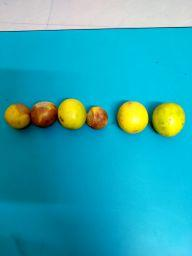lemon: (151, 102, 186, 138), (116, 100, 149, 135), (57, 98, 87, 130), (30, 100, 59, 130), (3, 103, 32, 130), (87, 104, 108, 130)
